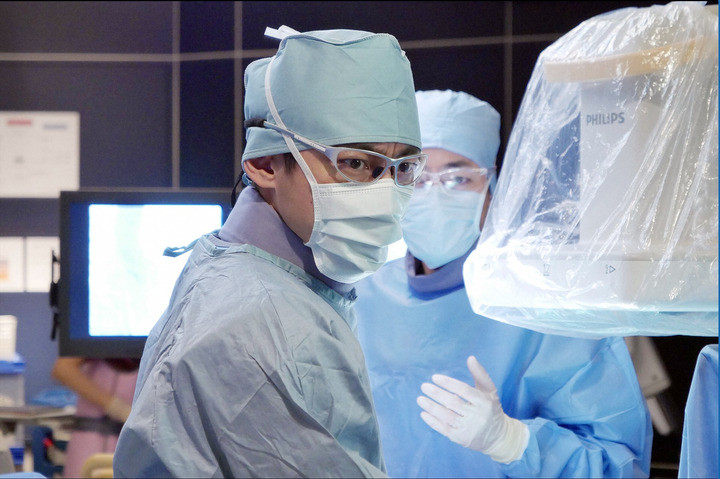mask: (307, 179, 411, 284), (401, 190, 487, 270)
